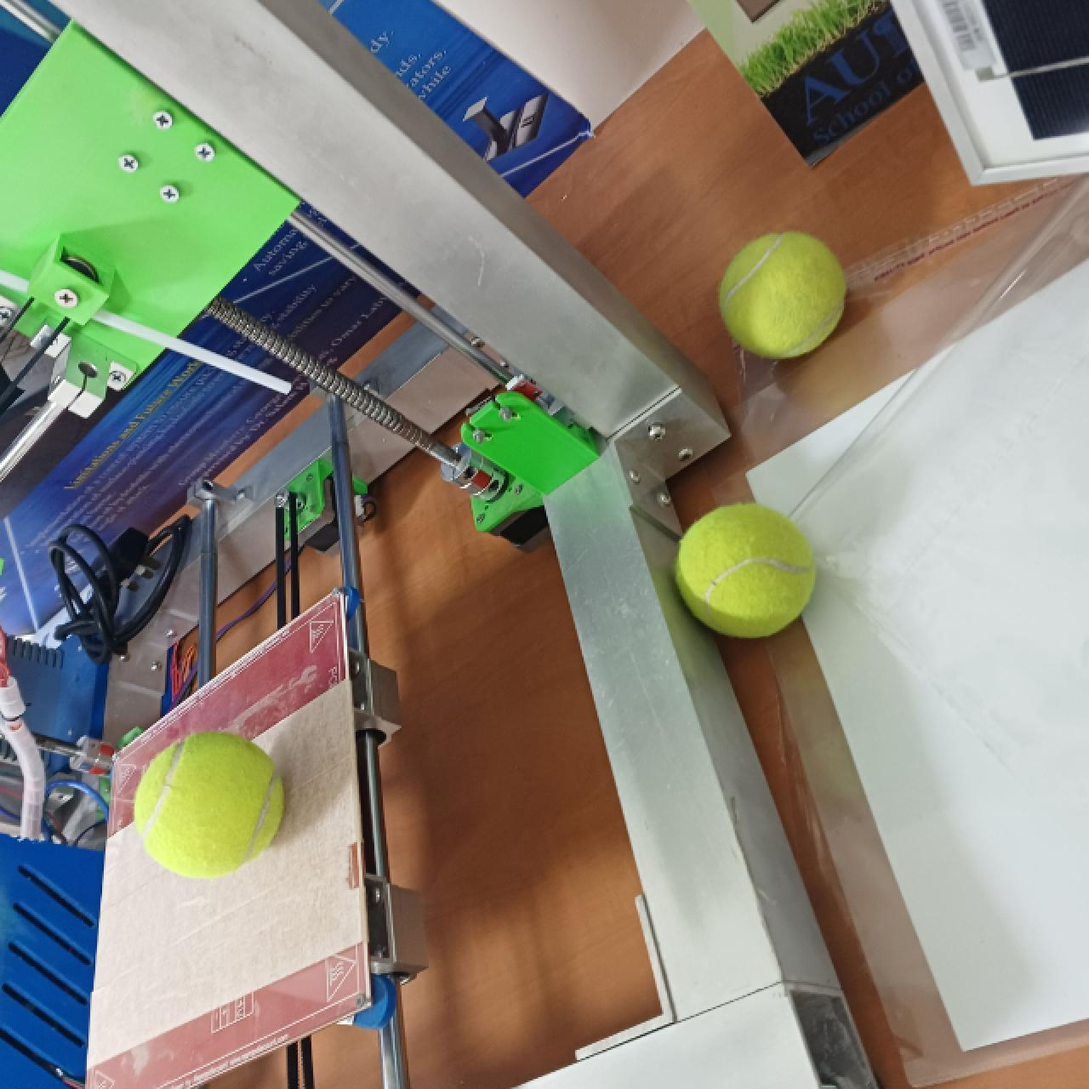tennis-ball: (132, 727, 285, 881), (670, 502, 817, 640), (716, 227, 848, 360)
